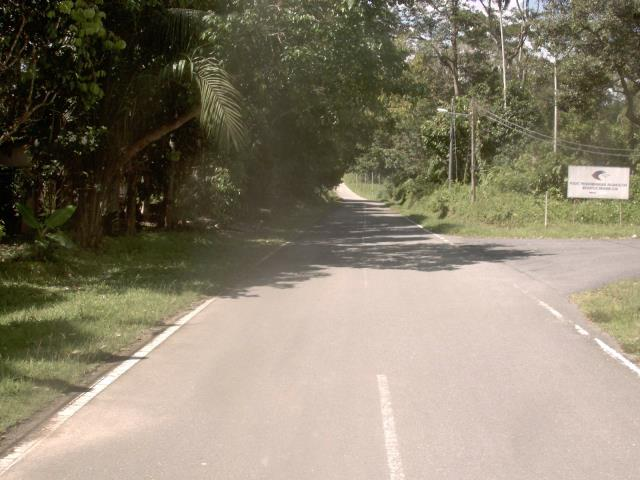ads_sign: (559, 157, 636, 205)
